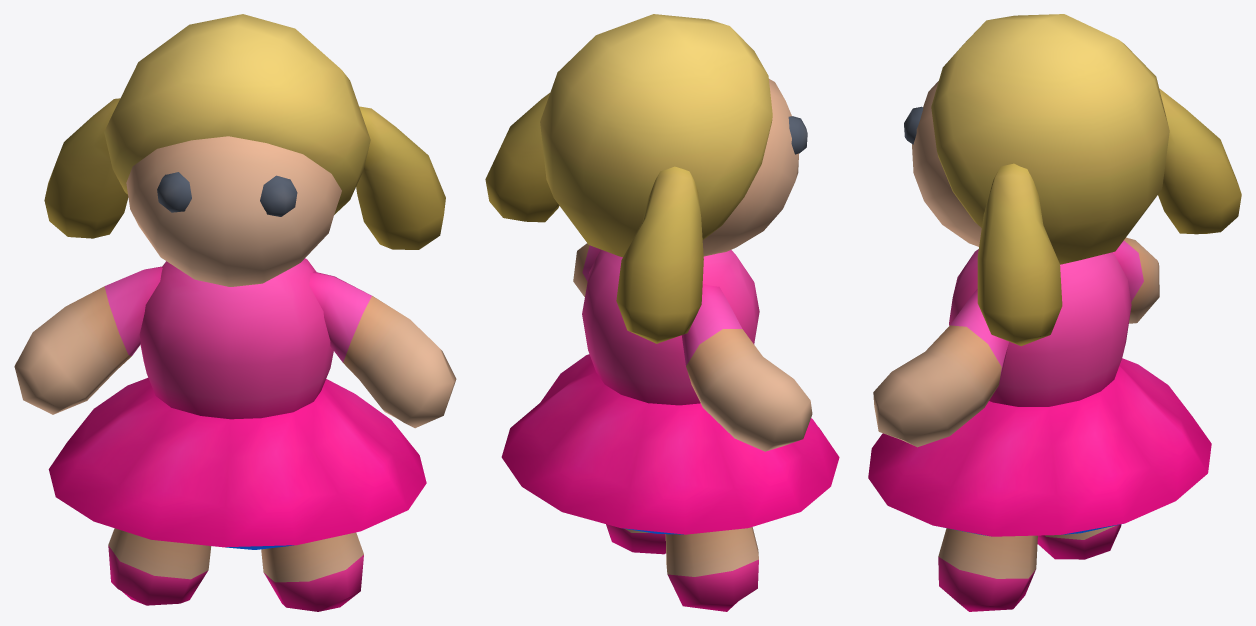
File: Doll.fbx
3 renders of one model, left to right at view 1: azimuth 30°, elevation 25°; view 2: azimuth 150°, elevation 25°; view 3: azimuth 270°, elevation 25°, orthographic. The views are drawn at different scales.
Parts seen in each view (by area): view 1: Doll; view 2: Doll; view 3: Doll.
Boxes of the visible parts, left/top/right/bottom form: Doll: left=14, top=14, right=456, bottom=611; Doll: left=485, top=14, right=839, bottom=611; Doll: left=868, top=14, right=1241, bottom=611.
Size of the model in its own units: 1871 by 2735 by 1652.
1 material, 1 textured.
